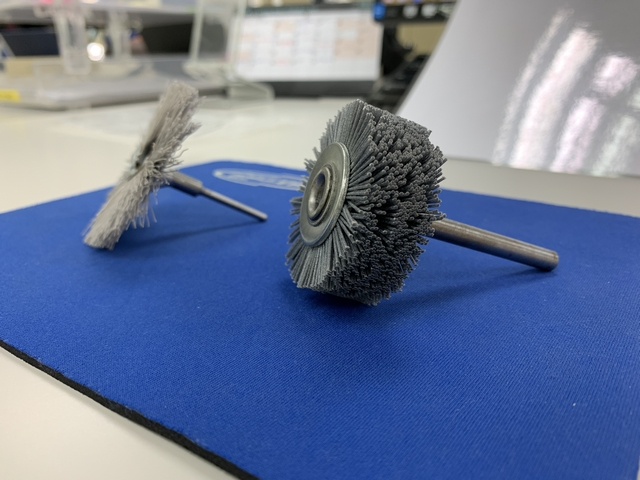TOOL: (69, 77, 279, 250)
Wheel Brush: (286, 87, 573, 318)
